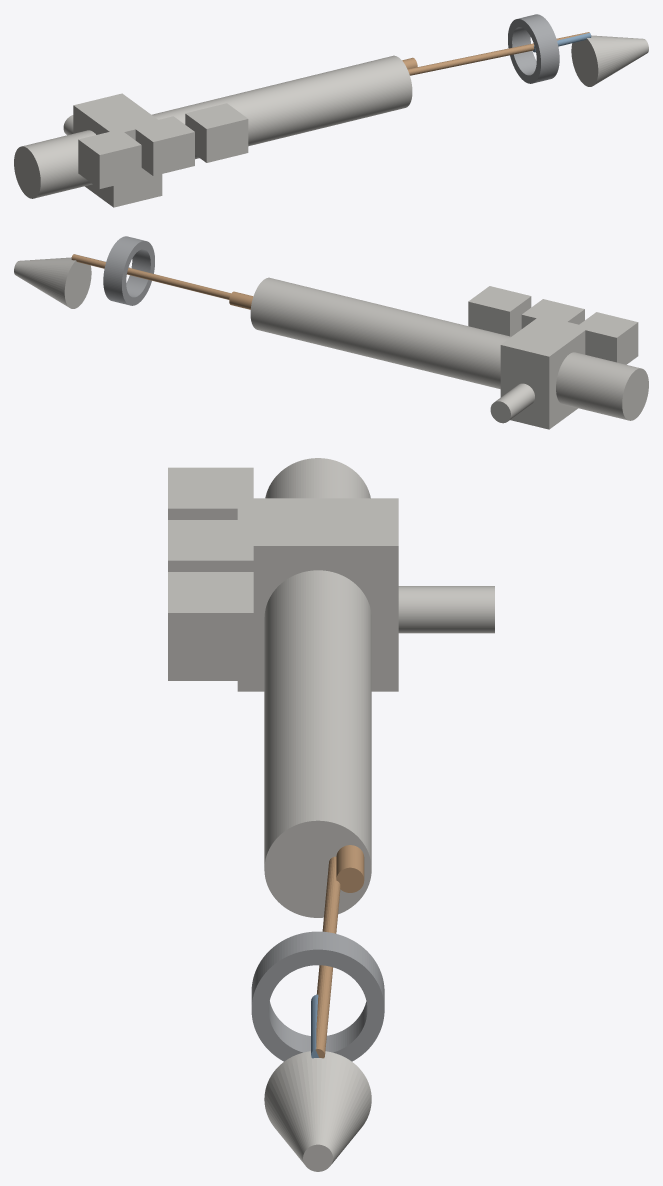
3 views of the same model, one above another, from view 1: azimuth 30°, elevation 25°; view 2: azimuth 150°, elevation 25°; view 3: azimuth 270°, elevation 25° (orthographic). The views are drawn at different scales.
Parts seen in each view (by area): view 1: device_shaft, hub, module_03, module_01, module_02, sensor_band, distal_tip, link_flow_lumen__distal_tip; view 2: device_shaft, hub, sensor_band, distal_tip, module_01, module_03, module_02, link_flow_lumen__distal_tip, flow_lumen; view 3: device_shaft, hub, module_01, distal_tip, sensor_band, module_03, module_02, link_flow_lumen__distal_tip, flow_lumen.
Part boxes in pixels (x1=…): device_shaft: x1=14, y1=55, x2=412, y2=198; hub: x1=63, y1=93, x2=162, y2=207; module_03: x1=78, y1=129, x2=141, y2=188; module_01: x1=185, y1=103, x2=248, y2=162; module_02: x1=135, y1=116, x2=194, y2=175; sensor_band: x1=508, y1=14, x2=559, y2=83; distal_tip: x1=571, y1=35, x2=648, y2=86; link_flow_lumen__distal_tip: x1=407, y1=32, x2=589, y2=75; device_shaft: x1=250, y1=277, x2=648, y2=420; hub: x1=490, y1=316, x2=588, y2=429; sensor_band: x1=103, y1=236, x2=154, y2=305; distal_tip: x1=14, y1=257, x2=91, y2=308; module_01: x1=468, y1=286, x2=531, y2=336; module_03: x1=579, y1=312, x2=638, y2=364; module_02: x1=521, y1=299, x2=584, y2=328; link_flow_lumen__distal_tip: x1=71, y1=254, x2=230, y2=299; flow_lumen: x1=229, y1=291, x2=253, y2=309; device_shaft: x1=264, y1=458, x2=371, y2=917; hub: x1=237, y1=498, x2=494, y2=691; module_01: x1=168, y1=572, x2=253, y2=680; distal_tip: x1=264, y1=1051, x2=371, y2=1171; sensor_band: x1=251, y1=931, x2=384, y2=1061; module_03: x1=168, y1=467, x2=253, y2=519; module_02: x1=168, y1=520, x2=253, y2=571; link_flow_lumen__distal_tip: x1=315, y1=856, x2=340, y2=1058; flow_lumen: x1=336, y1=845, x2=364, y2=892.
Bounding box in the file's own units: 13.3 × 1.75 × 3.05.
